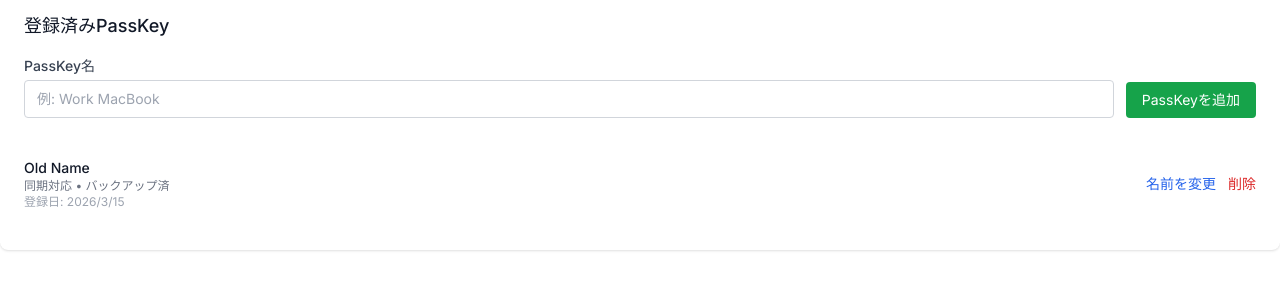
PasskeySettings › reveals the rename form with the current passkey name
The image size is (1280, 290).
Expected: the field labelled "新しいPassKey名" is not shown
What coordinates should you click on to do the following:
click the button "名前を変更"
I would click on:
 (1181, 184)
Its box is [1146,174,1216,194].
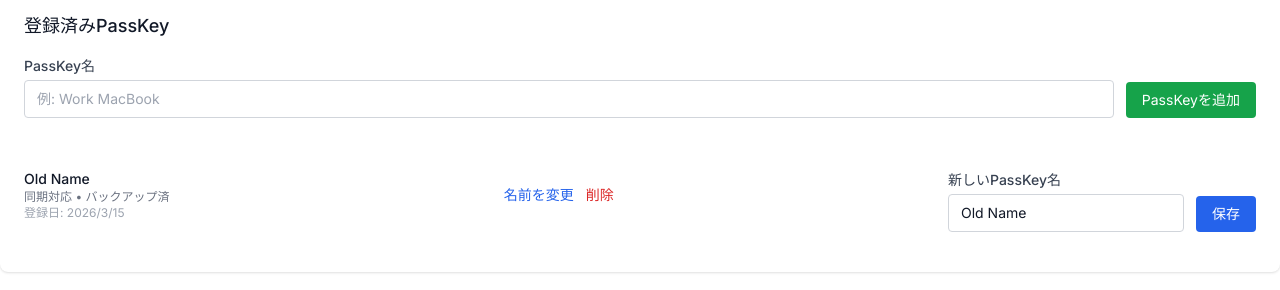
Result: the field labelled "新しいPassKey名" holds "Old Name" at [948,194,1184,232]
Result: the button "保存" is shown at [1196,196,1256,232]
